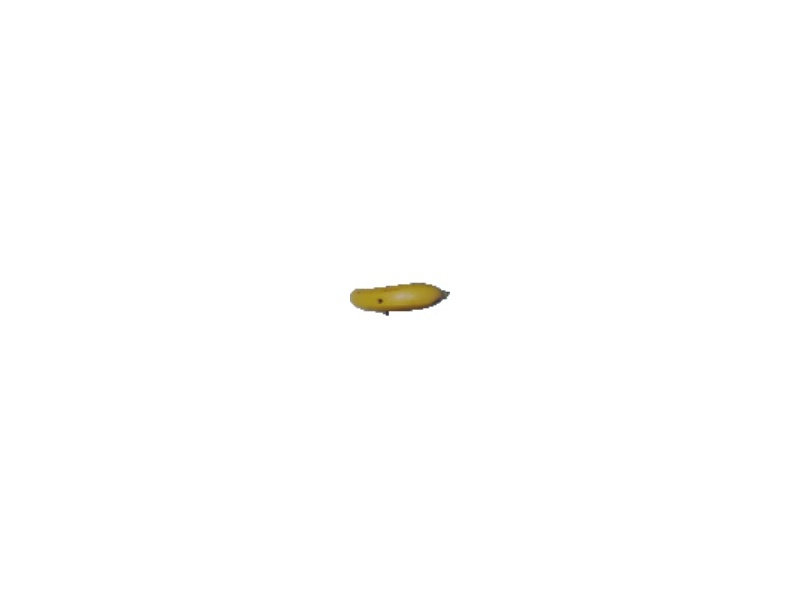banana: (348, 281, 449, 317)
